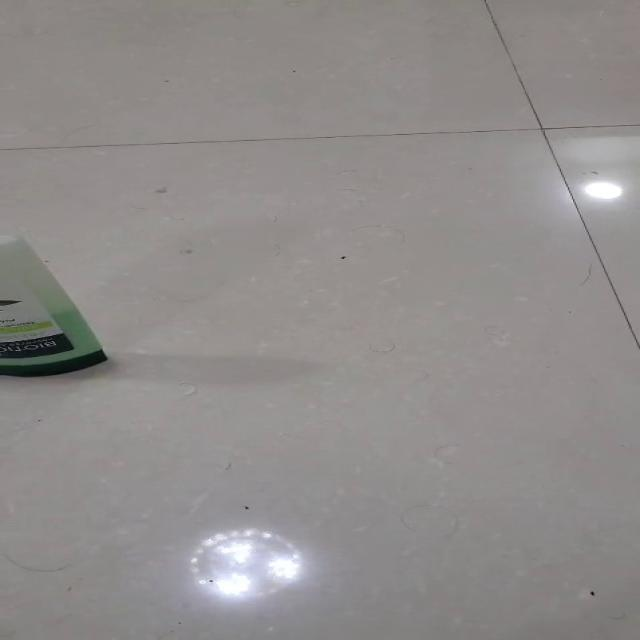plastic: (0, 233, 107, 377)
